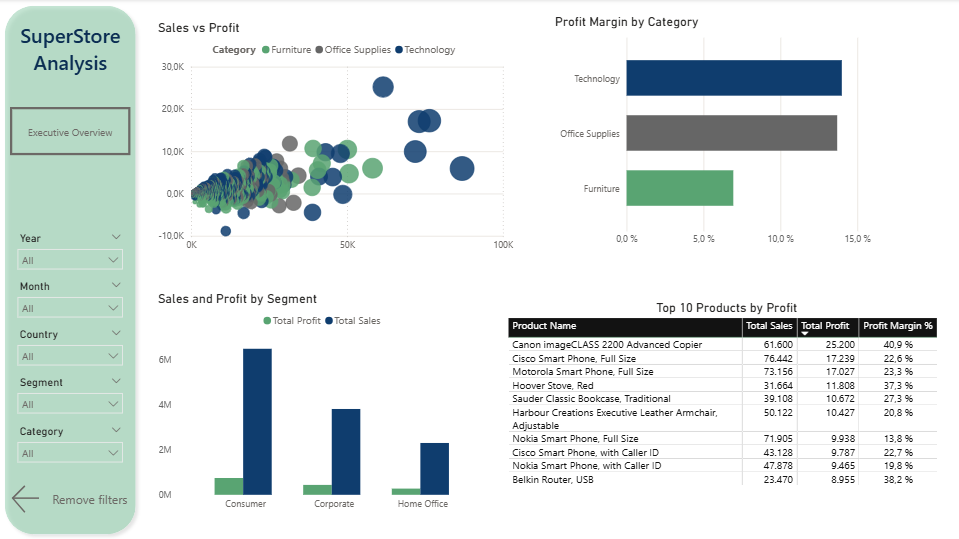

Layout of this report page (visuals, bound fields, positions):
{"tool":"powerbi","page":{"name":"Product & Market Deep Dive","canvas":[1280,720],"ordinal":1},"visuals":[{"type":"shape","box":[0,0,192,720],"z":0},{"type":"slicer","fields":{"Values":["Calendar.Year"]},"box":[16,304,160,64],"z":1},{"type":"slicer","fields":{"Values":["Calendar.Month Name"]},"box":[16,368,160,64],"z":2},{"type":"slicer","fields":{"Values":["Global_Superstore2.Country"]},"box":[16,432,160,64],"z":3},{"type":"slicer","fields":{"Values":["Global_Superstore2.Segment"]},"box":[16,496,160,64],"z":4},{"type":"slicer","fields":{"Values":["Global_Superstore2.Category"]},"box":[16,560,160,64],"z":5},{"type":"scatterChart","title":"Sales vs Profit","fields":{"X":["Global_Superstore2.Total Sales"],"Y":["Global_Superstore2.Total Profit"],"Category":["Global_Superstore2.Product Name"],"Series":["Global_Superstore2.Category"],"Size":["Global_Superstore2.Total Sales"]},"box":[192,8,512,352],"z":6},{"type":"barChart","title":"Profit Margin by Category","fields":{"Y":["Global_Superstore2.Profit Margin %"],"Category":["Global_Superstore2.Category"]},"box":[720,0,480,352],"z":7},{"type":"clusteredColumnChart","title":"Sales and Profit by Segment","fields":{"Category":["Global_Superstore2.Segment"],"Y":["Global_Superstore2.Total Profit","Global_Superstore2.Total Sales"]},"box":[192,368,480,336],"z":8},{"type":"tableEx","title":"Top 10 Products by Profit","fields":{"Values":["Global_Superstore2.Product Name","Global_Superstore2.Total Sales","Global_Superstore2.Total Profit","Global_Superstore2.Profit Margin %"]},"box":[672,400,592,304],"z":9},{"type":"actionButton","box":[16,144,160,64],"z":10},{"type":"actionButton","box":[16,640,160,48],"z":11}]}

Visuals, with their boxes in screenshot pixels (x1, y1, x2, y2), scaled from the page's 1280x720 canvas onto the 959x539 screenshot:
shape: l=0, t=0, r=144, b=538
slicer - Calendar.Year: l=12, t=228, r=132, b=275
slicer - Calendar.Month Name: l=12, t=275, r=132, b=323
slicer - Global_Superstore2.Country: l=12, t=323, r=132, b=371
slicer - Global_Superstore2.Segment: l=12, t=371, r=132, b=419
slicer - Global_Superstore2.Category: l=12, t=419, r=132, b=467
"Sales vs Profit" scatterChart: l=144, t=6, r=527, b=270
"Profit Margin by Category" barChart: l=539, t=0, r=899, b=264
"Sales and Profit by Segment" clusteredColumnChart: l=144, t=275, r=503, b=527
"Top 10 Products by Profit" tableEx: l=503, t=299, r=947, b=527
actionButton: l=12, t=108, r=132, b=156
actionButton: l=12, t=479, r=132, b=515
